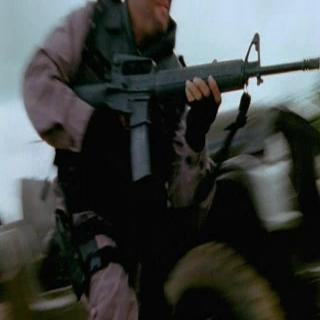gun: (82, 32, 296, 155)
